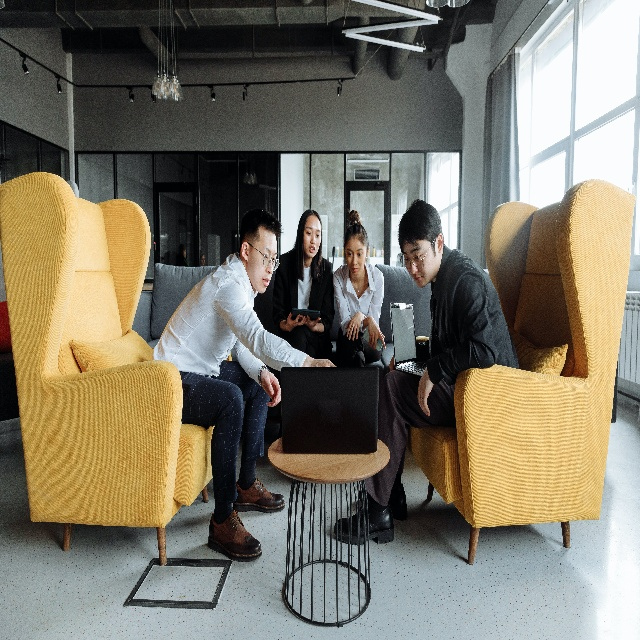Gafas: (399, 236, 439, 270), (247, 241, 280, 271)
Sin_guantes: (416, 365, 435, 418), (260, 369, 282, 407), (367, 315, 386, 352), (345, 311, 362, 341), (285, 311, 307, 331), (297, 312, 321, 329), (310, 357, 337, 369)
